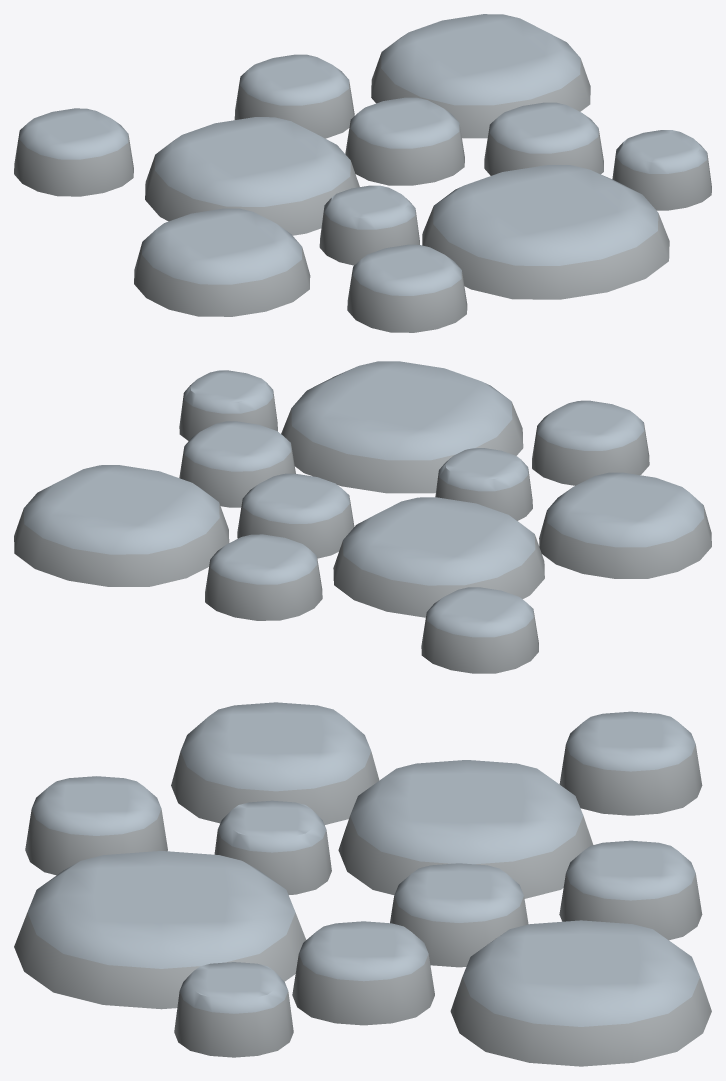
Rendered from itch_tiny_pretty_park_cobble_stones_large.glb.
3 renders of one model, top to bottom at view 1: azimuth 30°, elevation 25°; view 2: azimuth 150°, elevation 25°; view 3: azimuth 270°, elevation 25°, orthographic. The views are drawn at different scales.
Visible parts, largest first — view 1: cobble_stones_large; view 2: cobble_stones_large; view 3: cobble_stones_large.
Part boxes in pixels (x1=…): cobble_stones_large: x1=14, y1=14, x2=711, y2=332; cobble_stones_large: x1=14, y1=361, x2=711, y2=673; cobble_stones_large: x1=14, y1=702, x2=711, y2=1066.
Bounding box in the file's own units: 1.18 × 0.0877 × 1.07.
